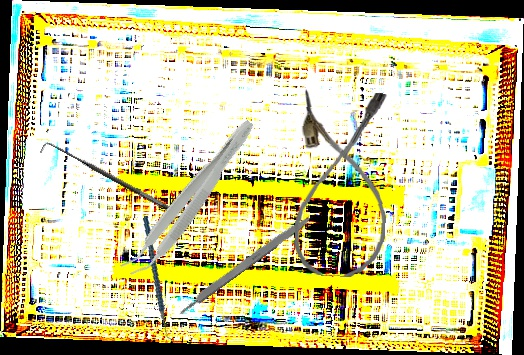Cannula: (292, 89, 393, 279)
Chopper: (124, 215, 195, 344)
Hook Surgical: (39, 136, 172, 222)
Scalpel Handle: (174, 209, 317, 318)
Tissue Forceps: (118, 110, 261, 285)
